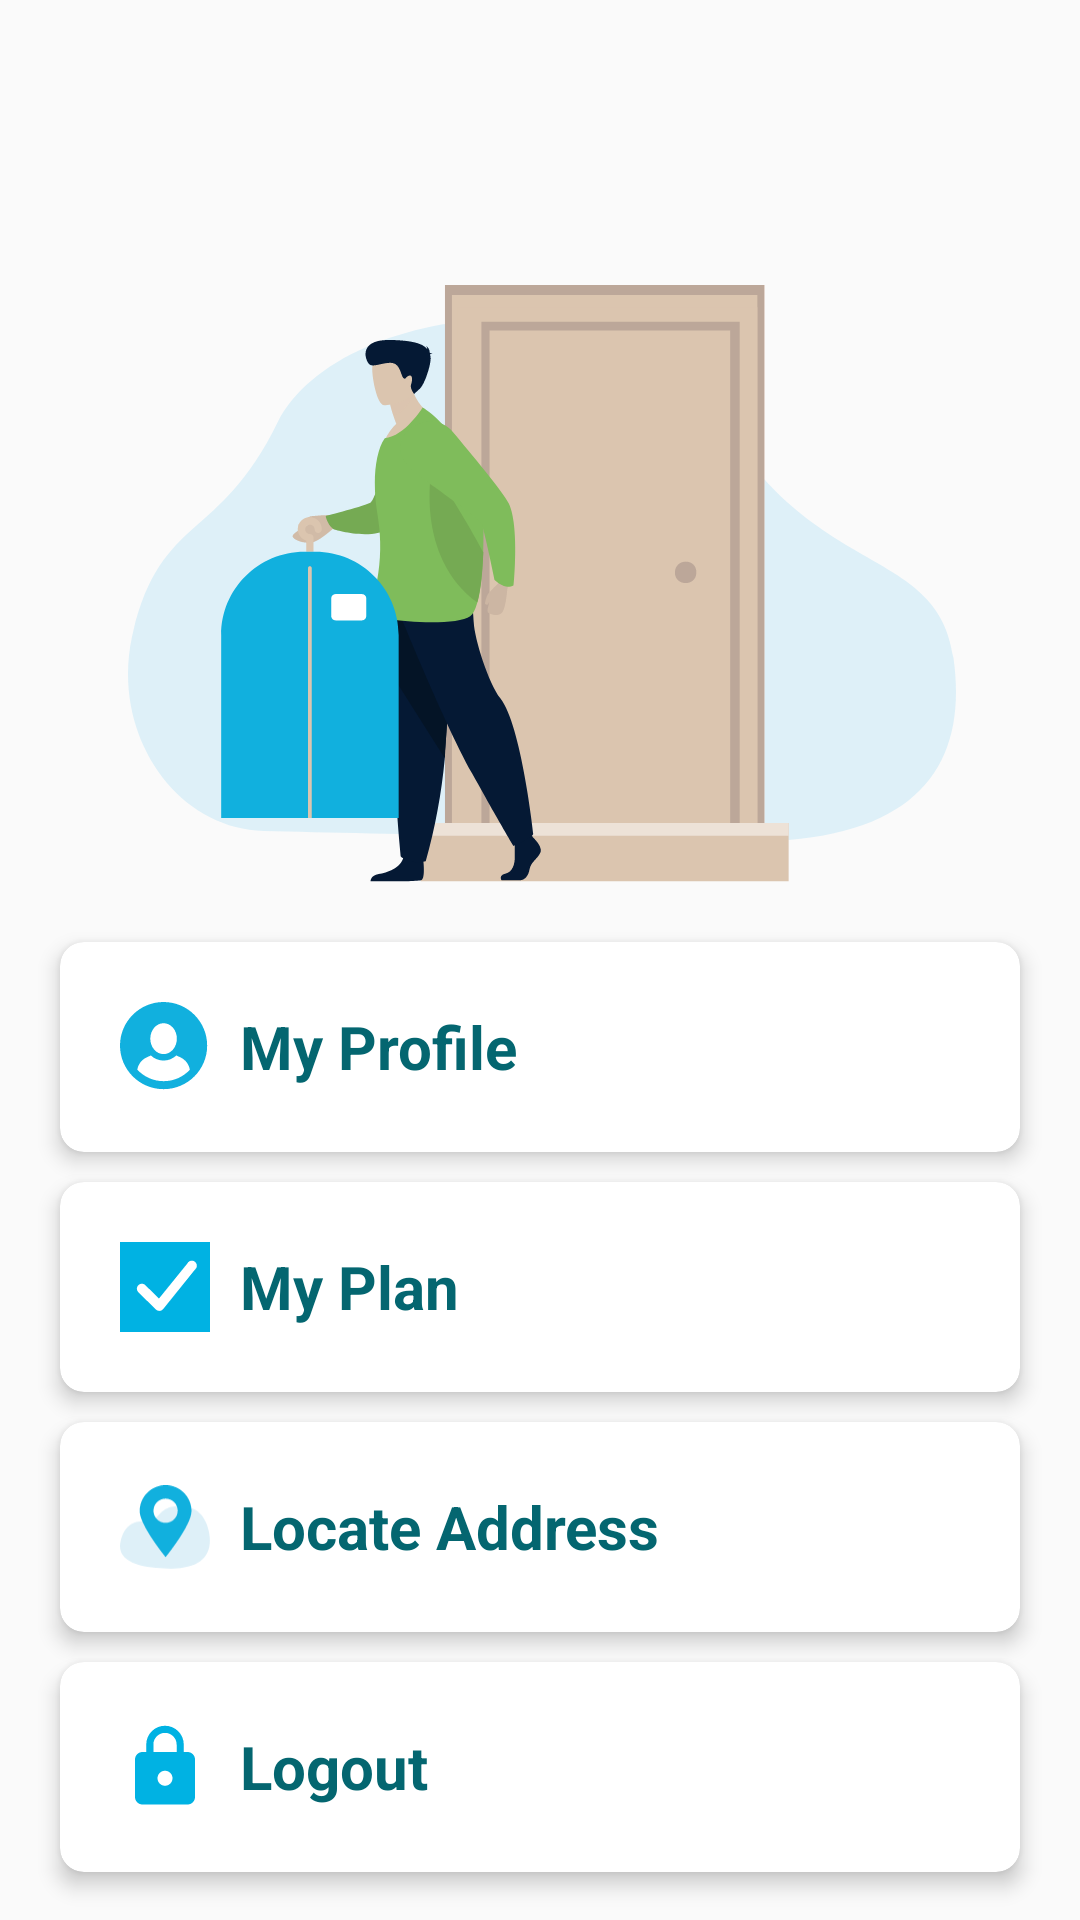

Screen size 1080px x 1920px. Icon name, then its box in pixels as (x1, y1, x2, y2):
account: (120, 1002, 208, 1090)
